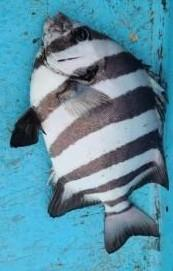fish: (10, 13, 167, 254)
